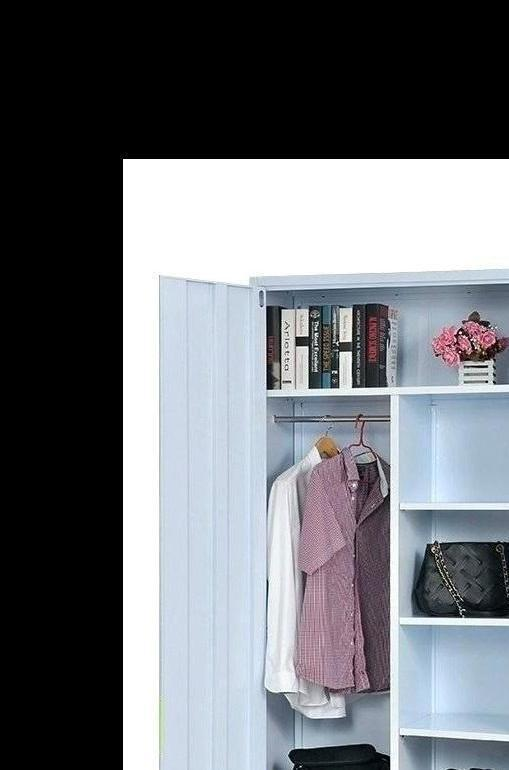Armario: (150, 258, 509, 770)
